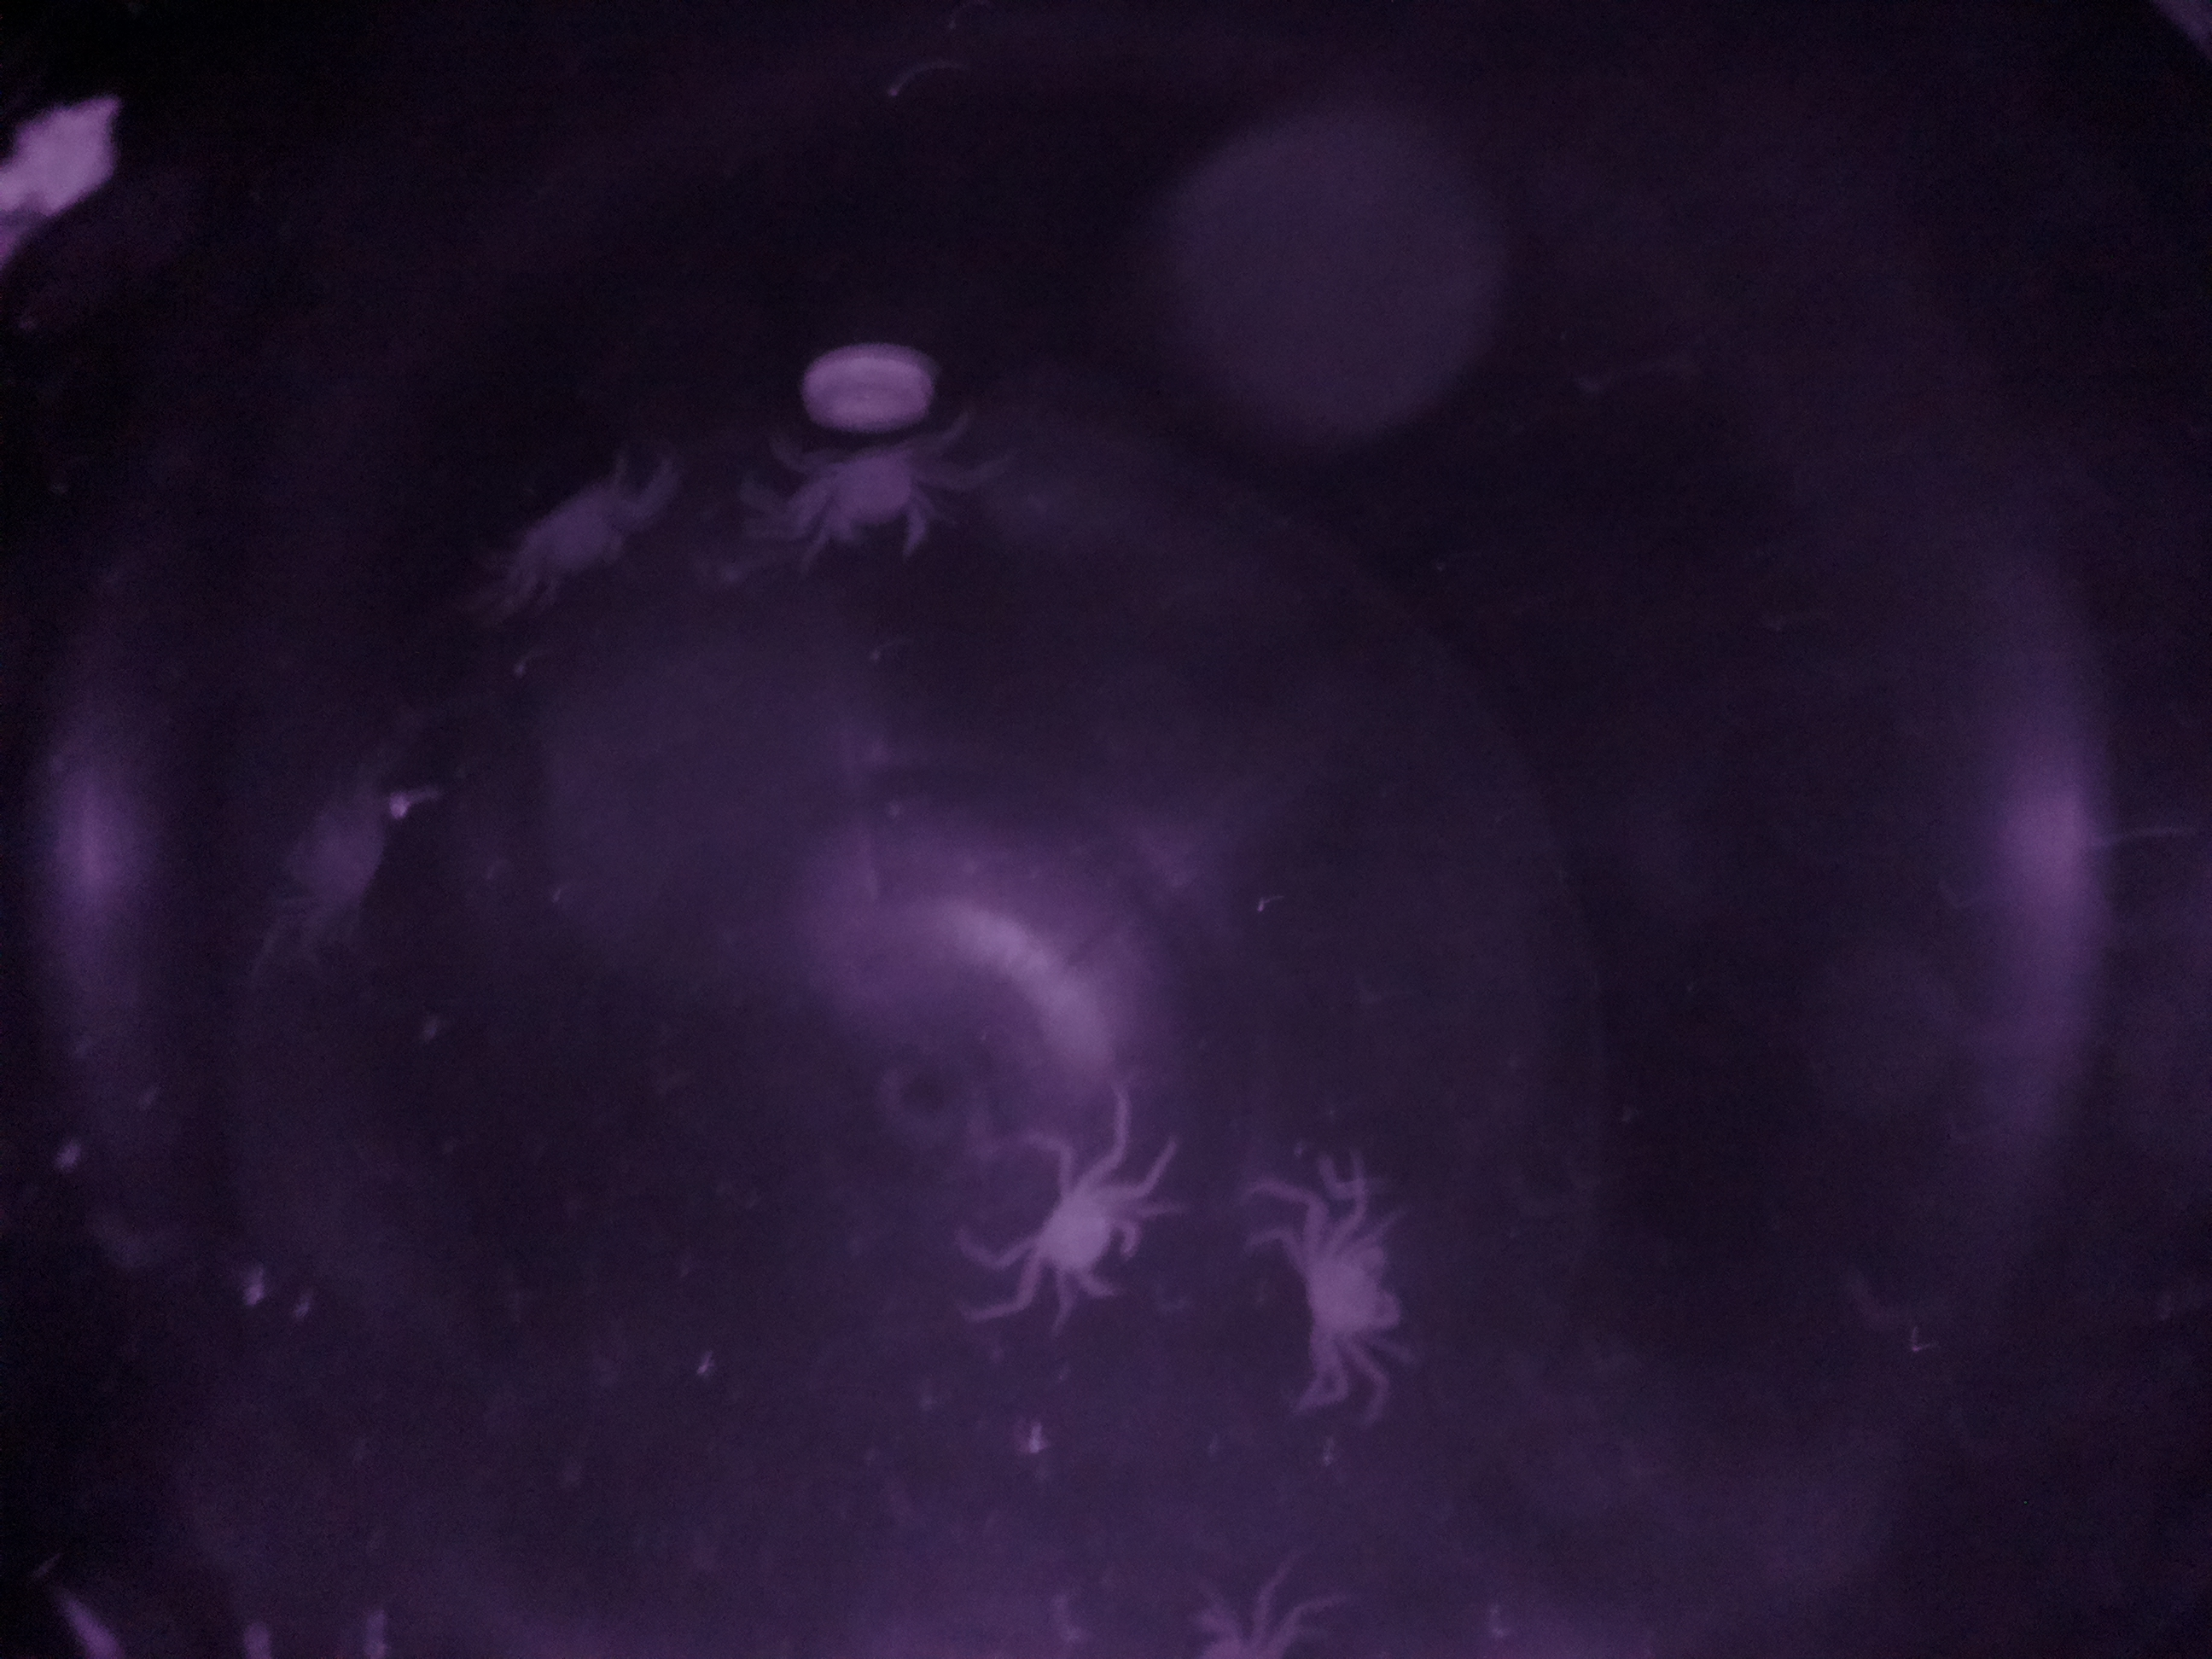Crab: (1278, 1188, 1437, 1387), (1015, 1127, 1157, 1321)
